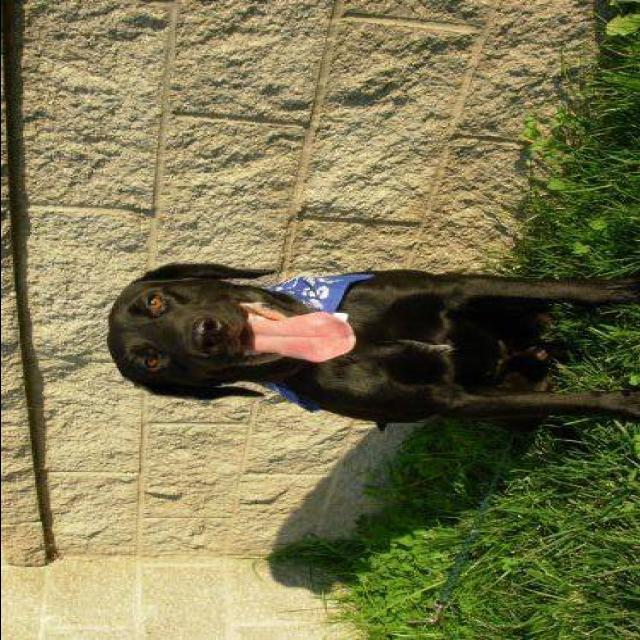dog: (82, 244, 640, 492)
